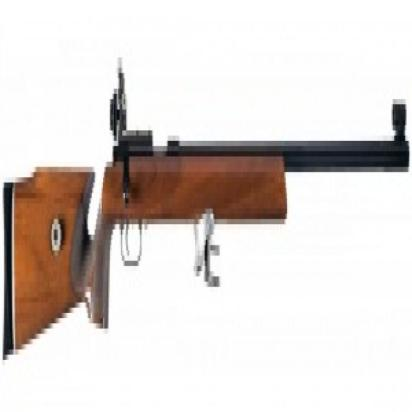Gun: (0, 79, 411, 371)
